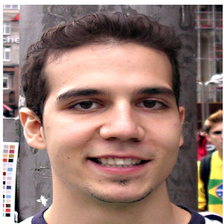no_mask: (41, 55, 182, 201)
